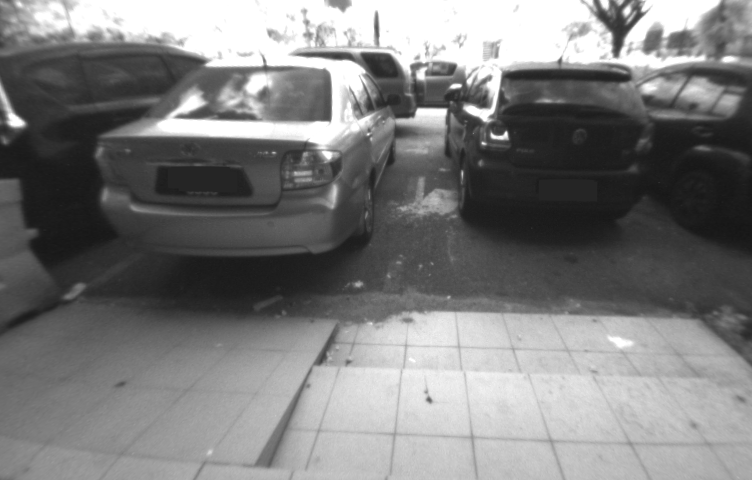down_steps: (267, 303, 752, 480)
mixed_gradient: (186, 308, 386, 480)
